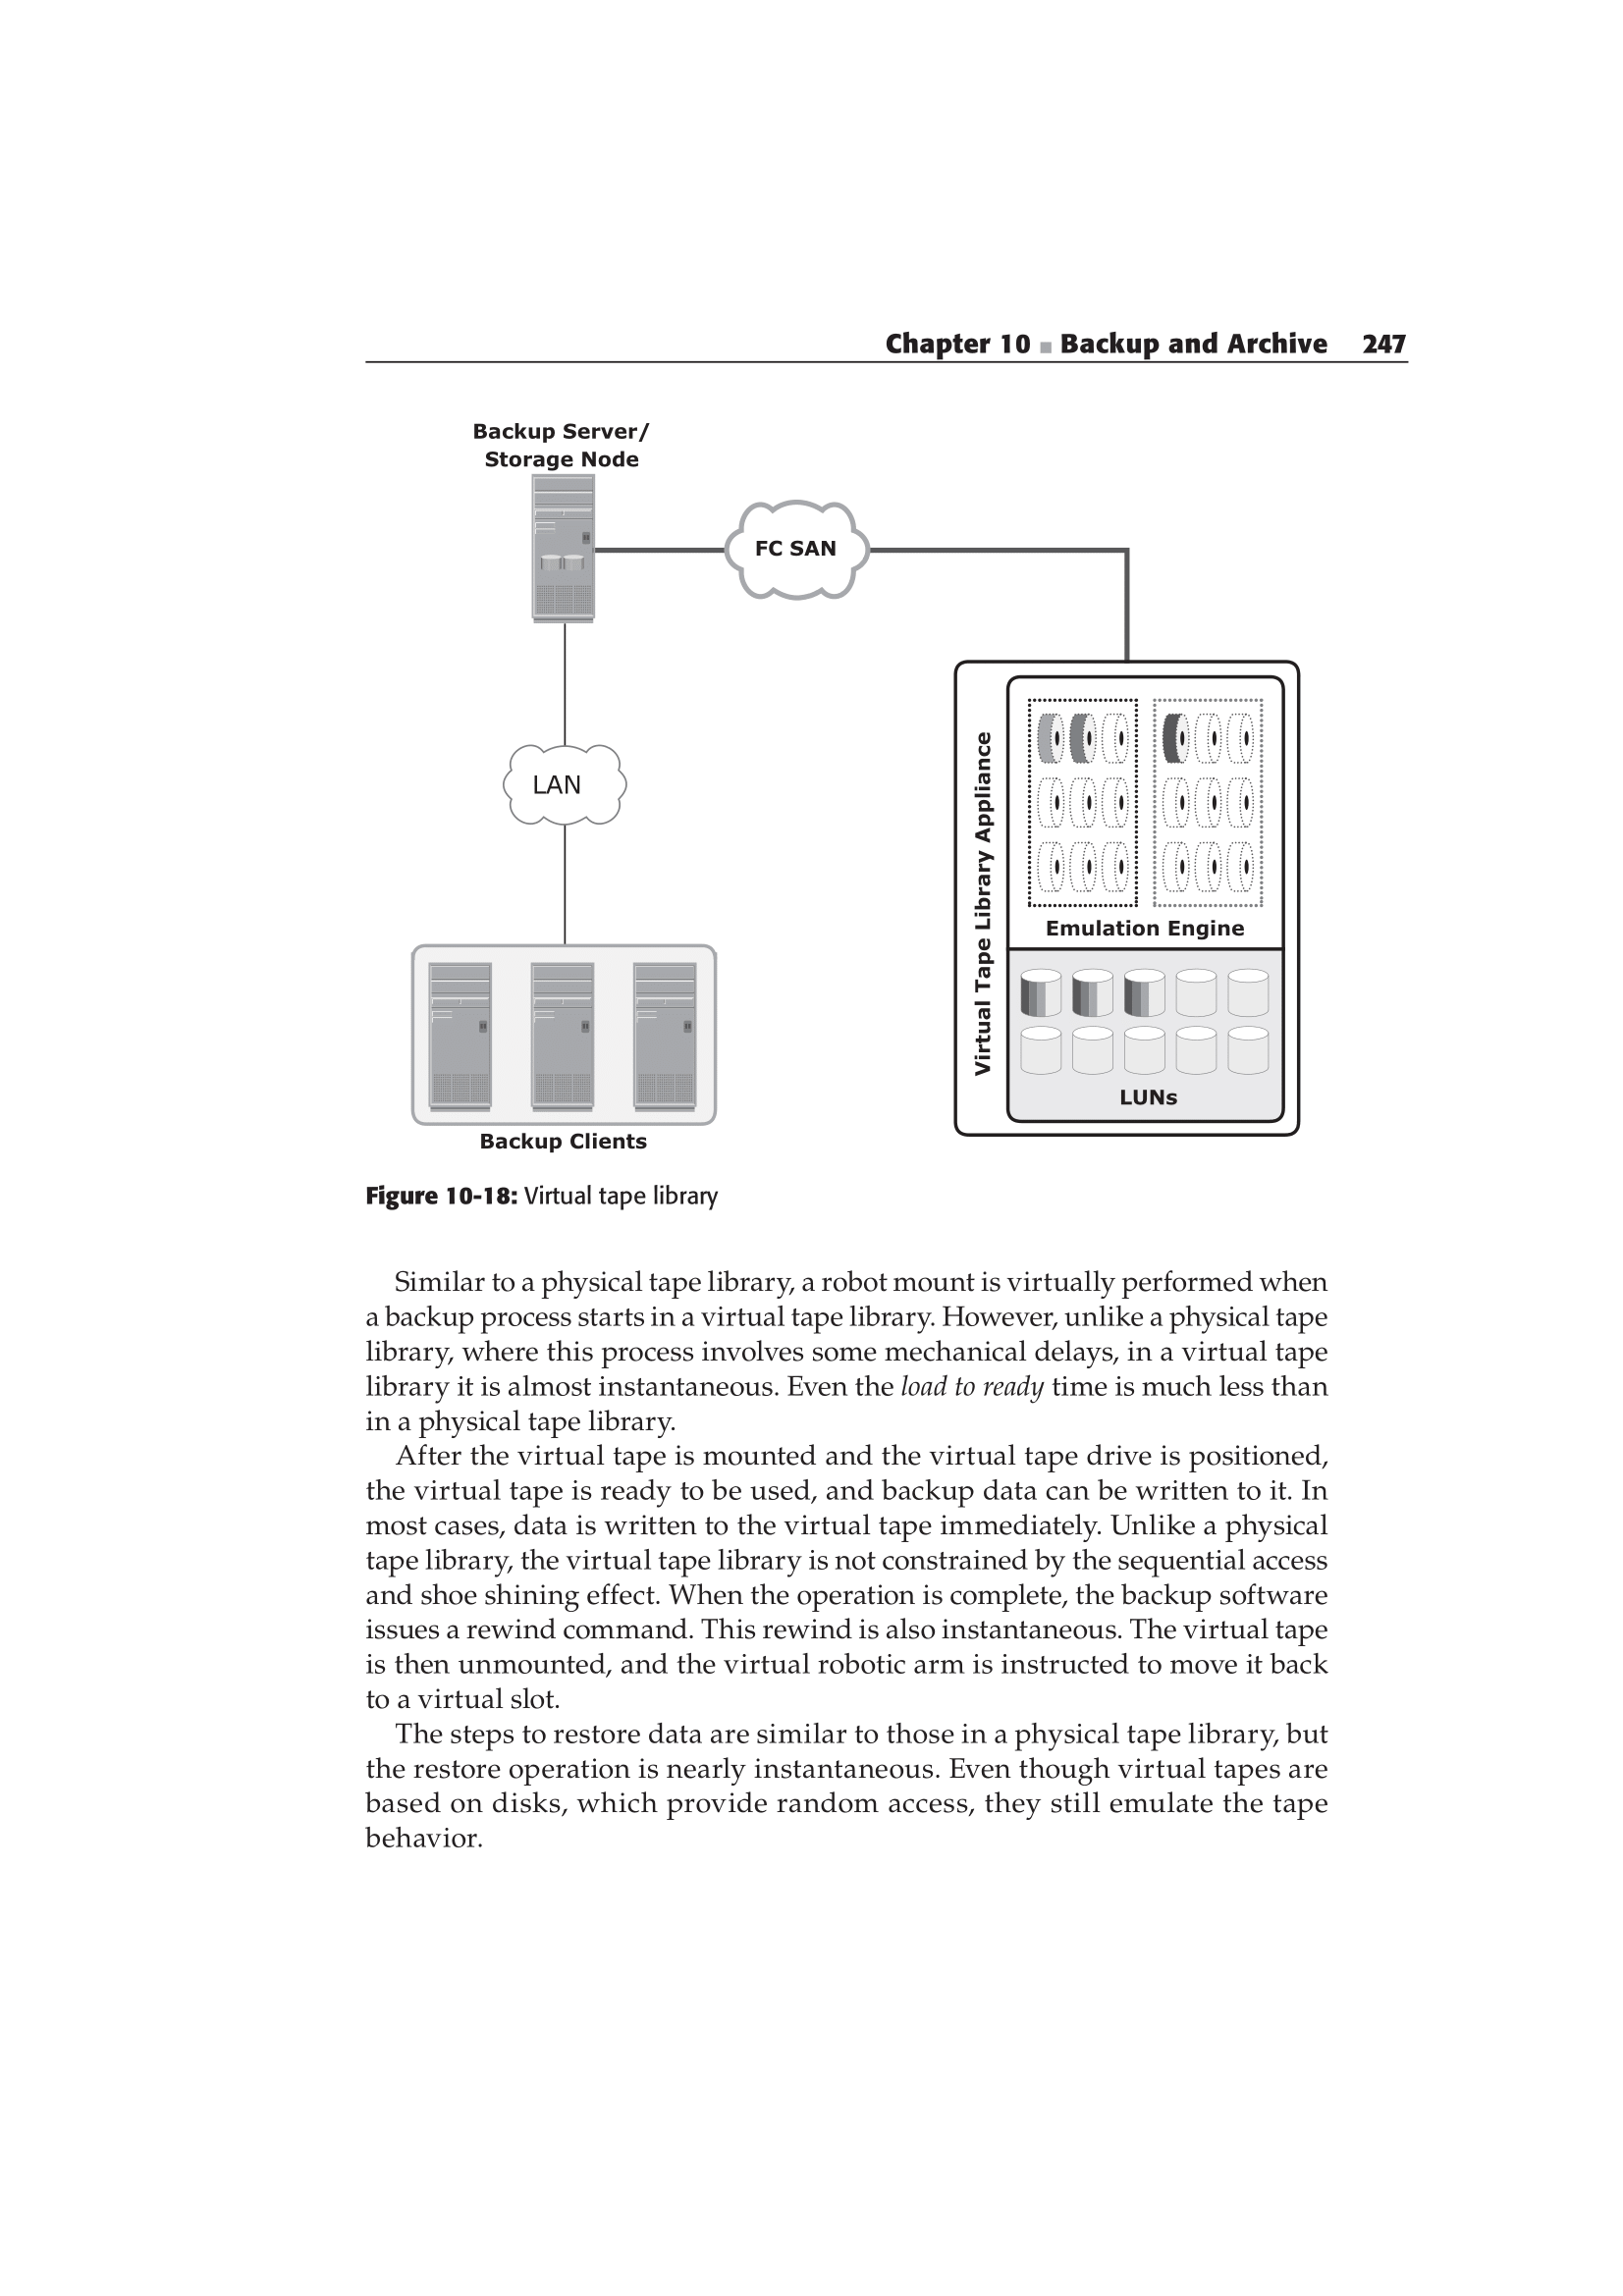Image: (360, 414, 1470, 1148)
Paragraph: (344, 1713, 1396, 1964), (327, 1266, 1388, 1441), (868, 272, 1433, 390), (327, 1160, 813, 1236)
